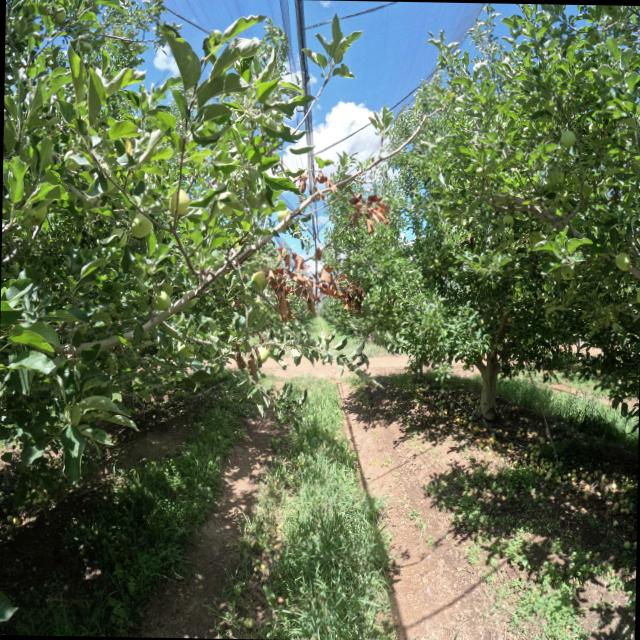-FireBlight-: (264, 246, 368, 320), (290, 174, 337, 216), (346, 191, 386, 236), (230, 338, 262, 386)
